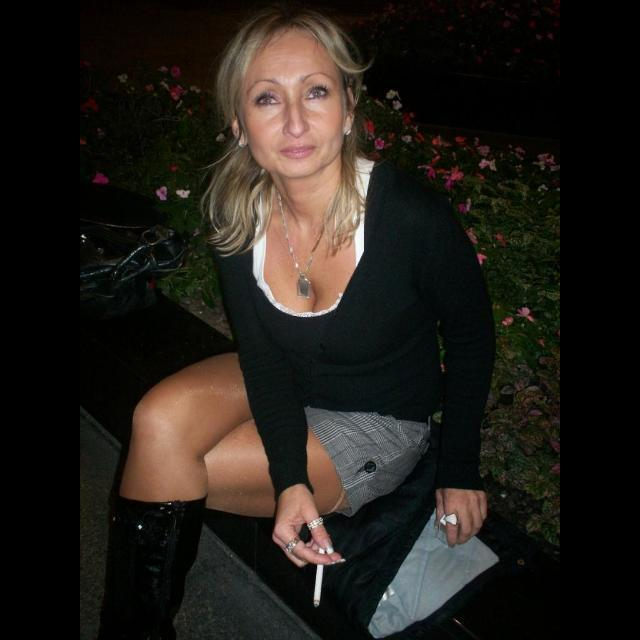rokok: (308, 540, 326, 606)
